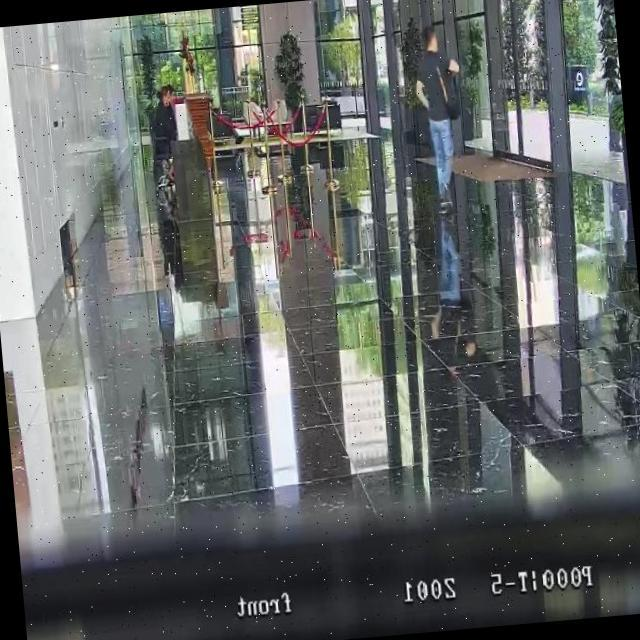person: (411, 25, 471, 206), (599, 46, 624, 156), (152, 85, 176, 154), (165, 83, 178, 131)
